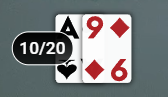9: (81, 13, 108, 43)
a: (55, 14, 82, 44)
